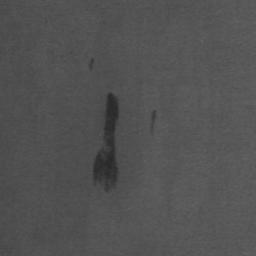Iron scale compression: (94, 93, 119, 193), (150, 110, 157, 136), (89, 59, 94, 71)
